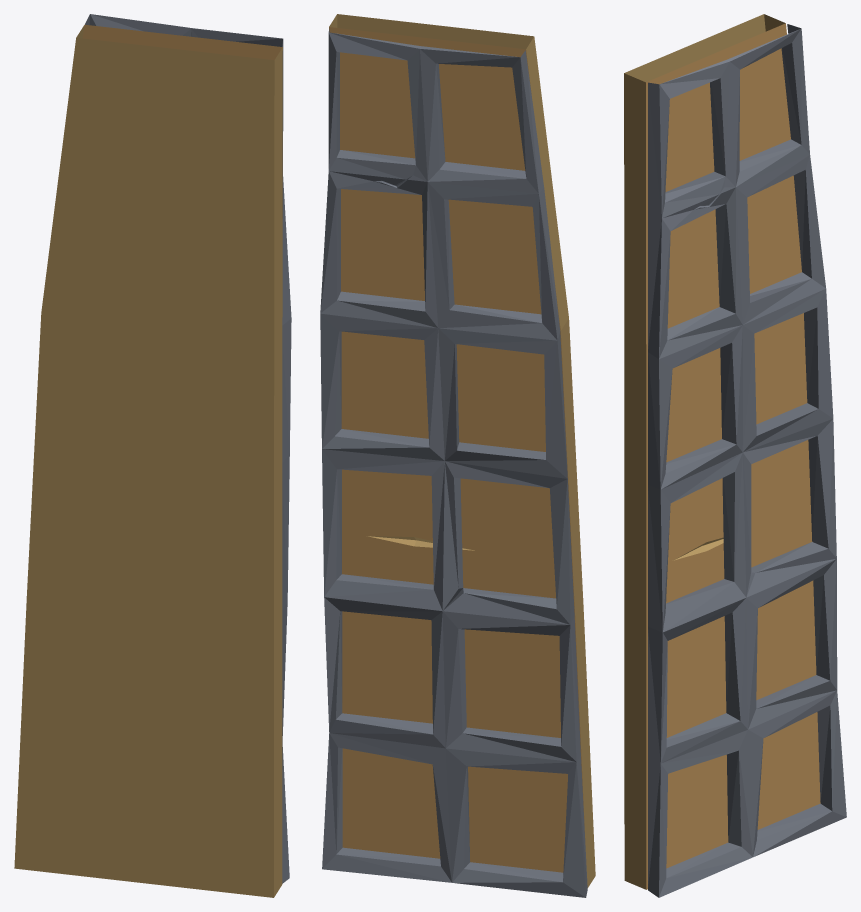
The model's file is hades_door_right.glb.
3 renders of one model, left to right at view 1: azimuth 30°, elevation 25°; view 2: azimuth 210°, elevation 25°; view 3: azimuth 270°, elevation 25°, orthographic. The views are drawn at different scales.
Visible parts, largest first — view 1: Hades_DoorRight; view 2: Hades_DoorRight; view 3: Hades_DoorRight.
Boxes of the visible parts, <box> form: Hades_DoorRight: <box>14,14,291,897</box>; Hades_DoorRight: <box>320,14,595,897</box>; Hades_DoorRight: <box>624,14,846,897</box>.
Size of what is drawn, in the model's own units: 1.17 by 4.7 by 1.17.
1 material, 1 textured.
